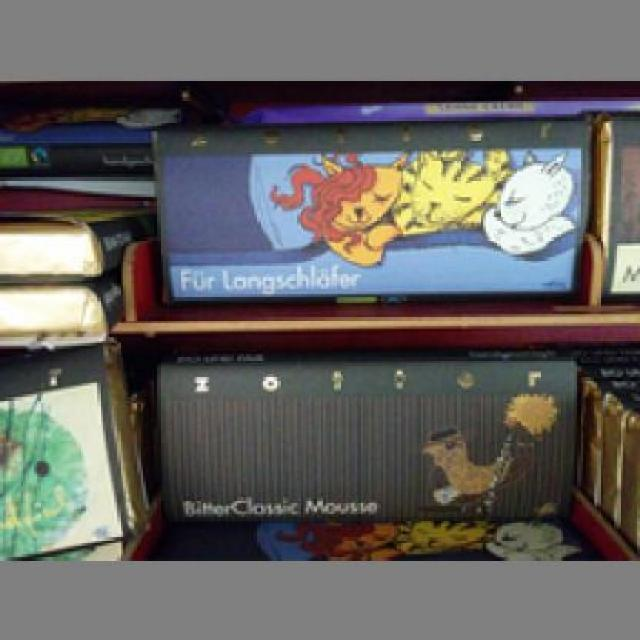Chocolate: (145, 120, 586, 303), (140, 346, 577, 523)
